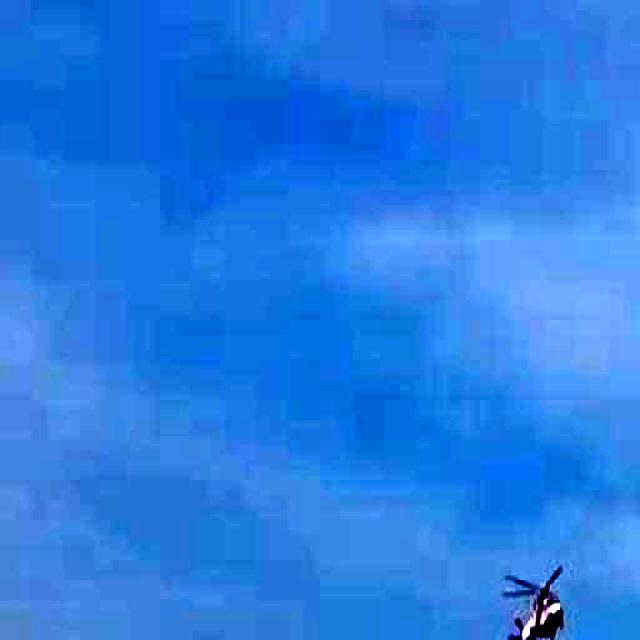drone: (482, 552, 601, 640)
